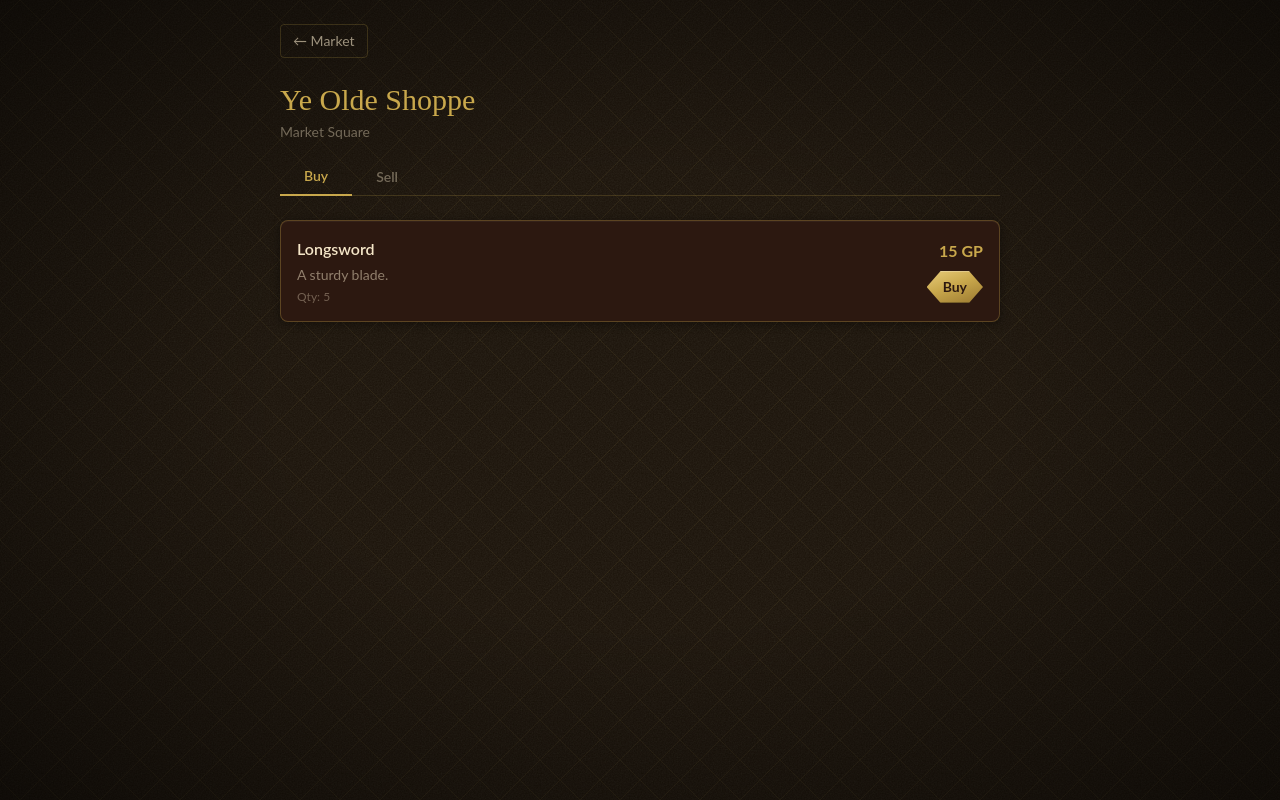
Test: StoreDetailPage — Buy tab › shows confirm modal when Buy is clicked
The listing card Buy button is the last "Buy" button (tab is first)
Click the button "Buy" below "15 GP": (955, 287) left=927, top=271, right=983, bottom=303
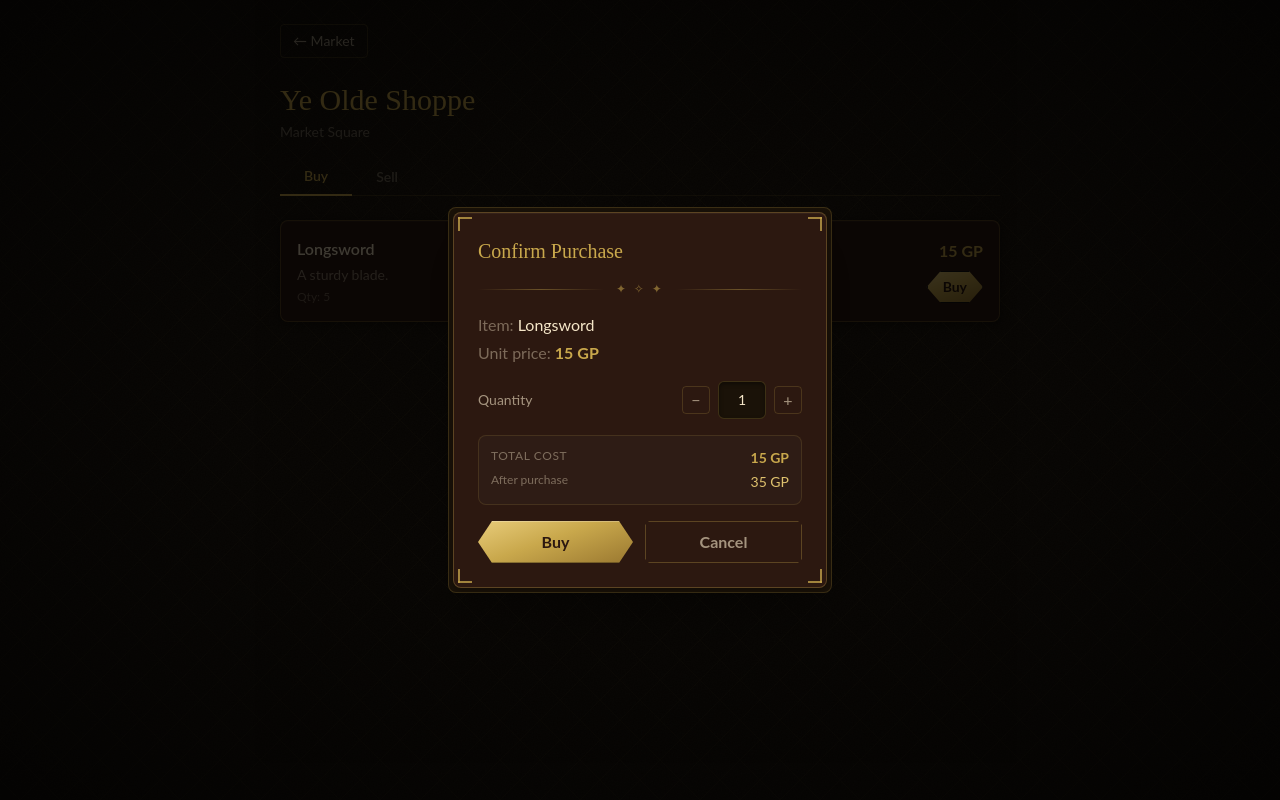
Result: the heading "Confirm Purchase" is shown at left=478, top=240, right=623, bottom=262
